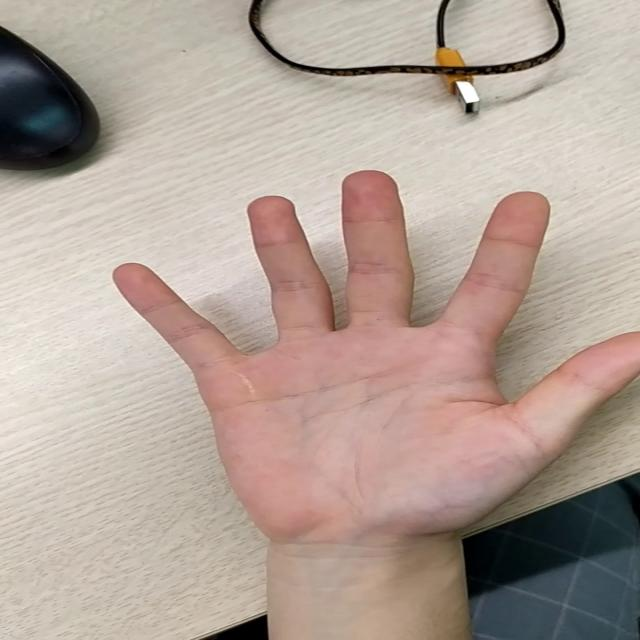hand: (102, 170, 640, 533)
